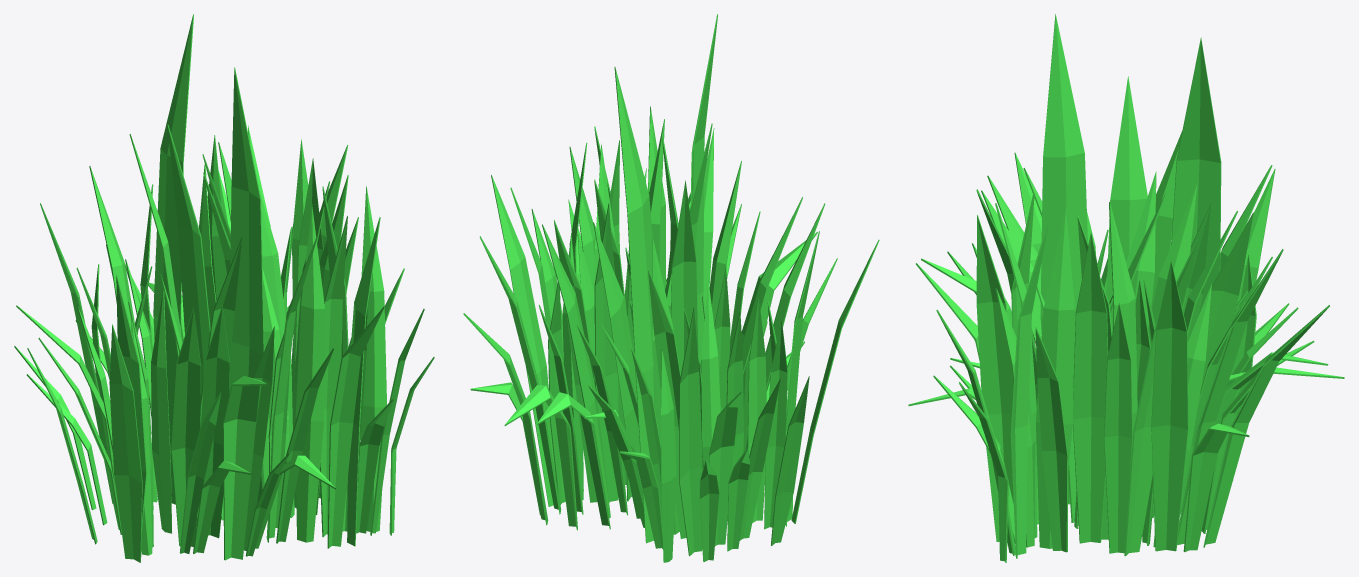
Rendered from cao1.FBX.
3 renders of one model, left to right at view 1: azimuth 30°, elevation 25°; view 2: azimuth 150°, elevation 25°; view 3: azimuth 270°, elevation 25°, orthographic.
Visible parts, largest first — view 1: c080; view 2: c080; view 3: c080.
Boxes of the visible parts, x1=… form: c080: x1=14, y1=14, x2=434, y2=562; c080: x1=463, y1=14, x2=879, y2=562; c080: x1=908, y1=14, x2=1344, y2=562.
Bounding box in the file's own units: 0.4669 × 0.6679 × 0.5462.
